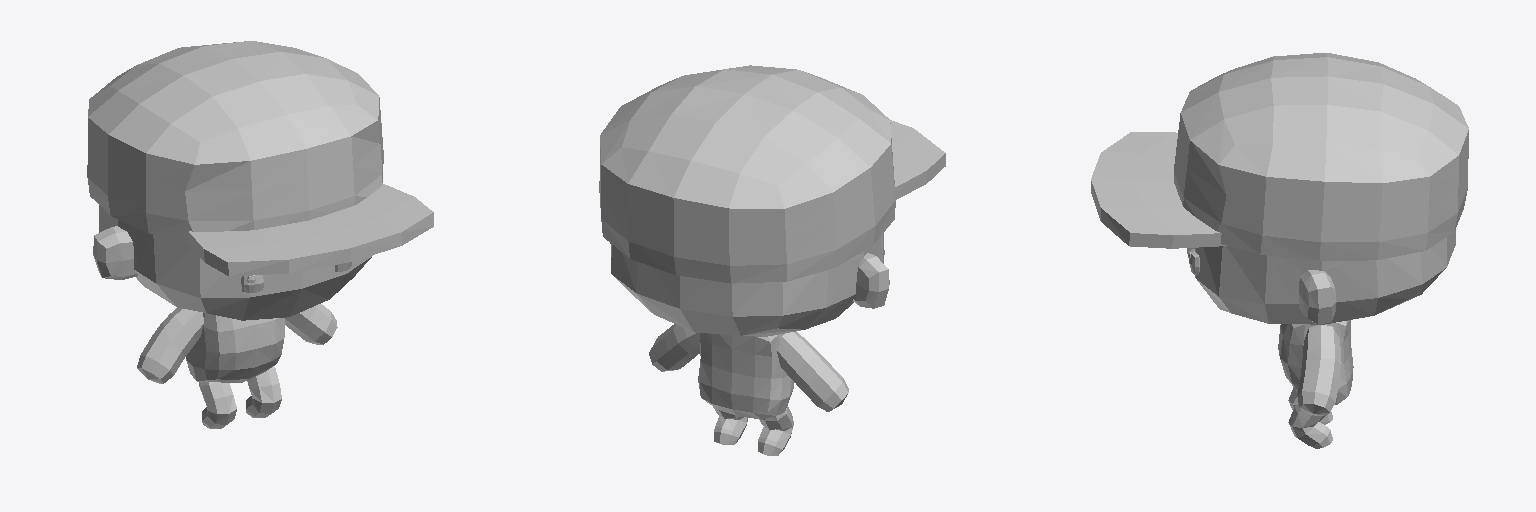
The model's file is jump_0002.obj.
The picture shows the model from 3 angles: view 1: azimuth 30°, elevation 25°; view 2: azimuth 150°, elevation 25°; view 3: azimuth 270°, elevation 25°; orthographic projection.
Parts seen in each view (by area): view 1: Object_41, Object_42, Object_44, Object_36; view 2: Object_41, Object_36, Object_44, Object_42; view 3: Object_41, Object_36, Object_42, Object_44.
Part boxes in pixels (x1,y1,x2,y2): Object_41: (87,41,383,241); Object_42: (185,121,433,276); Object_44: (137,304,337,428); Object_36: (93,205,372,320); Object_41: (599,65,895,283); Object_36: (610,233,889,336); Object_44: (649,324,848,455); Object_42: (890,120,945,199); Object_41: (1181,53,1468,260); Object_36: (1187,230,1455,324); Object_42: (1091,113,1226,248); Object_44: (1278,320,1353,448).
Bounding box in the file's own units: 0.9691 × 1.19 × 1.13.